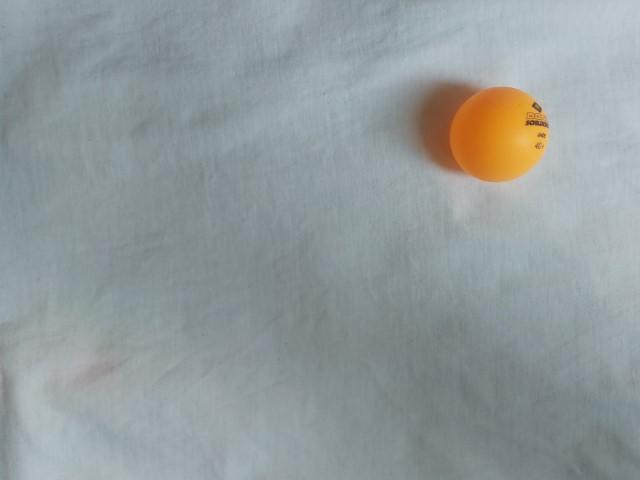oball: (439, 78, 559, 190)
